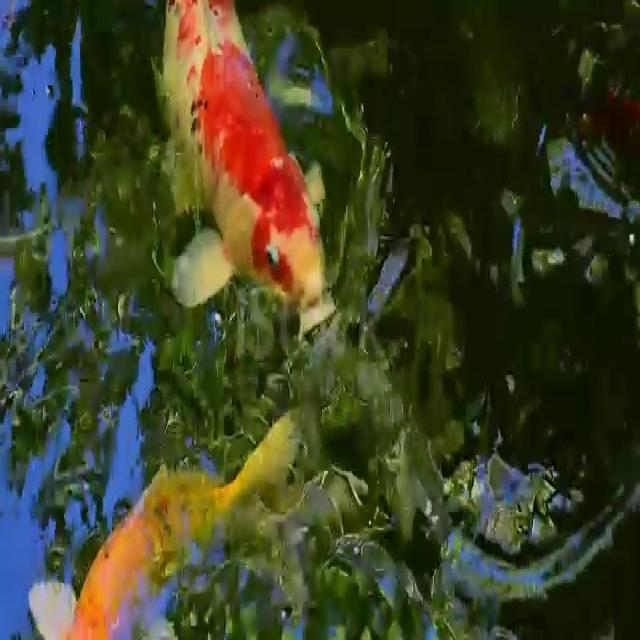fish: (150, 0, 360, 340), (18, 403, 318, 640)
